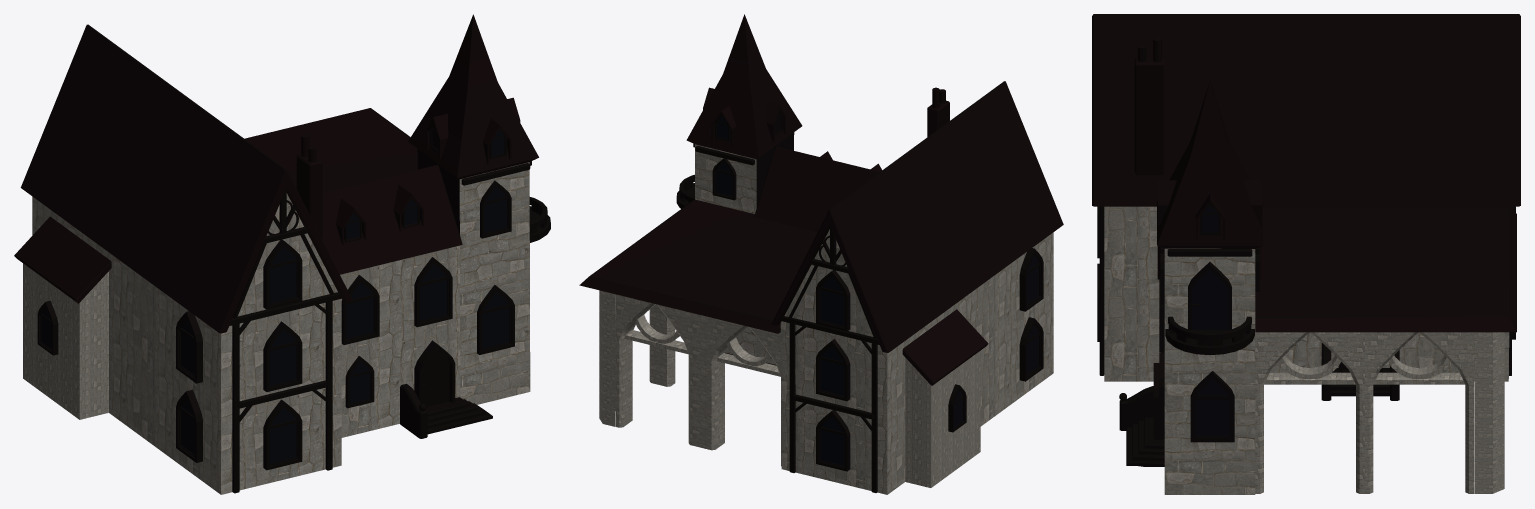
File: Casucha.obj
3 views of the same model, side by side, from view 1: azimuth 30°, elevation 25°; view 2: azimuth 150°, elevation 25°; view 3: azimuth 270°, elevation 25° (orthographic). The views are drawn at different scales.
Parts seen in each view (by area): view 1: neoGothicHouse_UVSeparated_SP_001; view 2: neoGothicHouse_UVSeparated_SP_001; view 3: neoGothicHouse_UVSeparated_SP_001.
Part boxes in pixels (x1=…): neoGothicHouse_UVSeparated_SP_001: x1=14, y1=14, x2=550, y2=494; neoGothicHouse_UVSeparated_SP_001: x1=579, y1=14, x2=1063, y2=494; neoGothicHouse_UVSeparated_SP_001: x1=1092, y1=14, x2=1520, y2=494.
Bounding box in the file's own units: 12.47 × 10.82 × 10.56.
4 materials, 1 textured.
